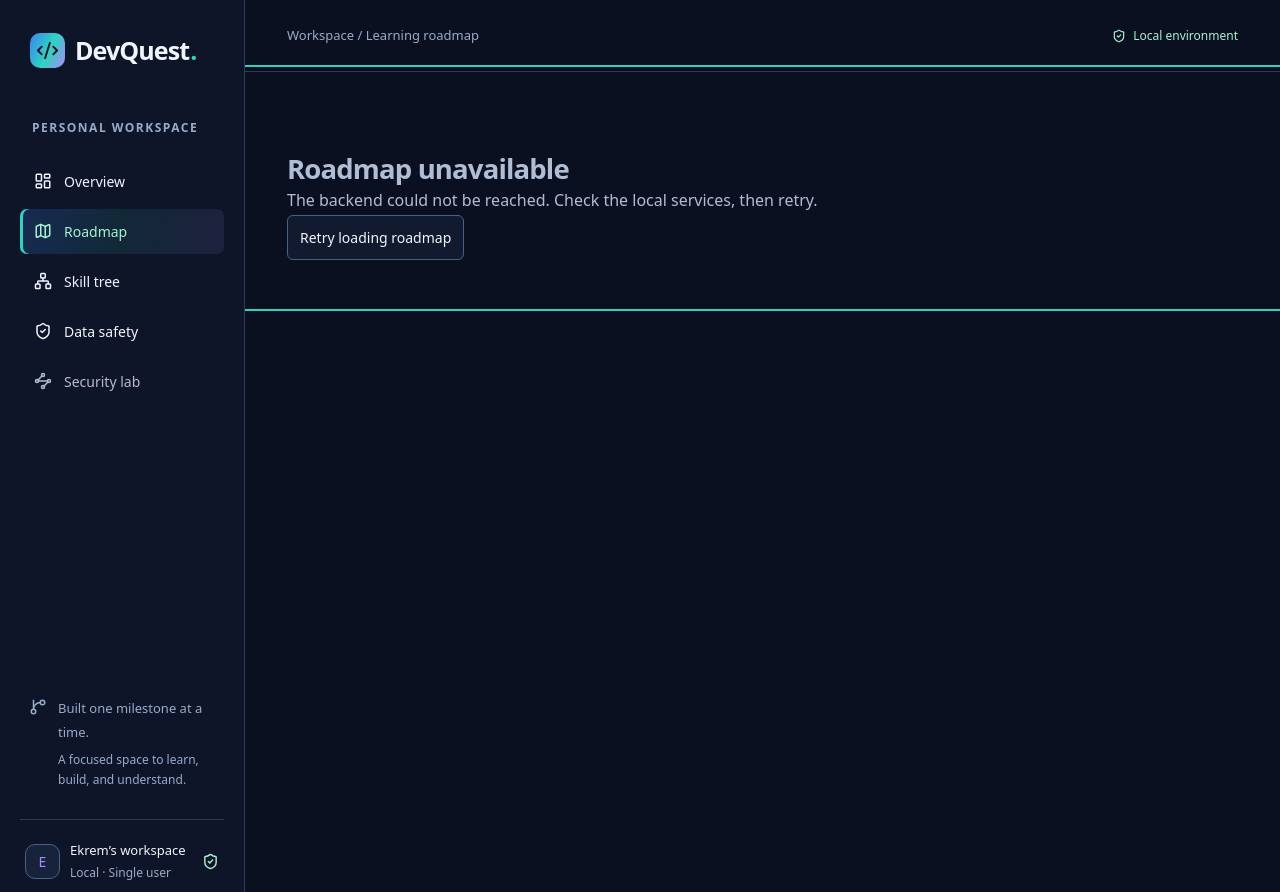
Test case: interactive roadmap › shows a failed read and lets the user retry
Expected: the message shows "backend could not be reached", [287,189,818,211]
Click the button "Retry loading roadmap".
click(376, 238)  # box [287,215,464,260]
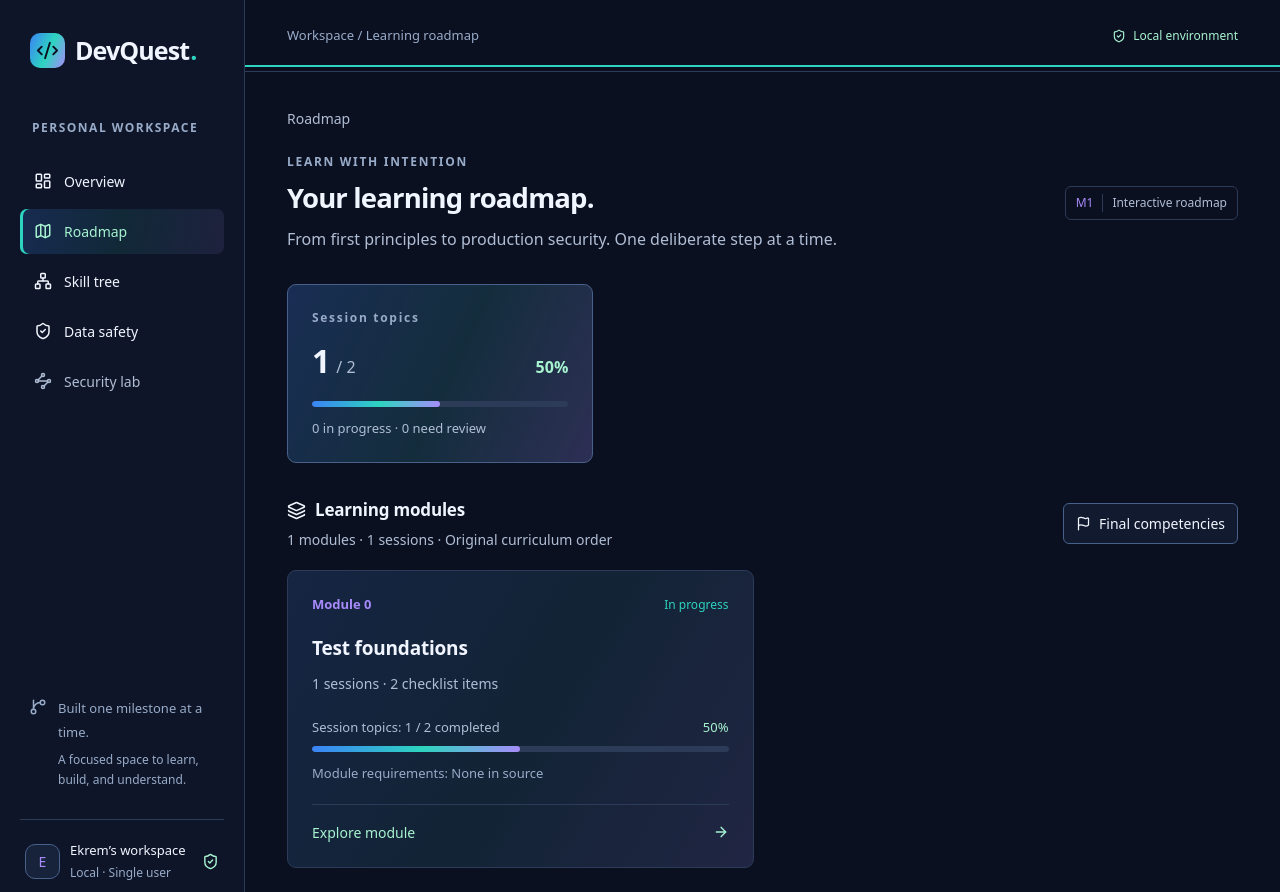
Expected: the link "Test foundations" is shown, [312,635,468,661]
